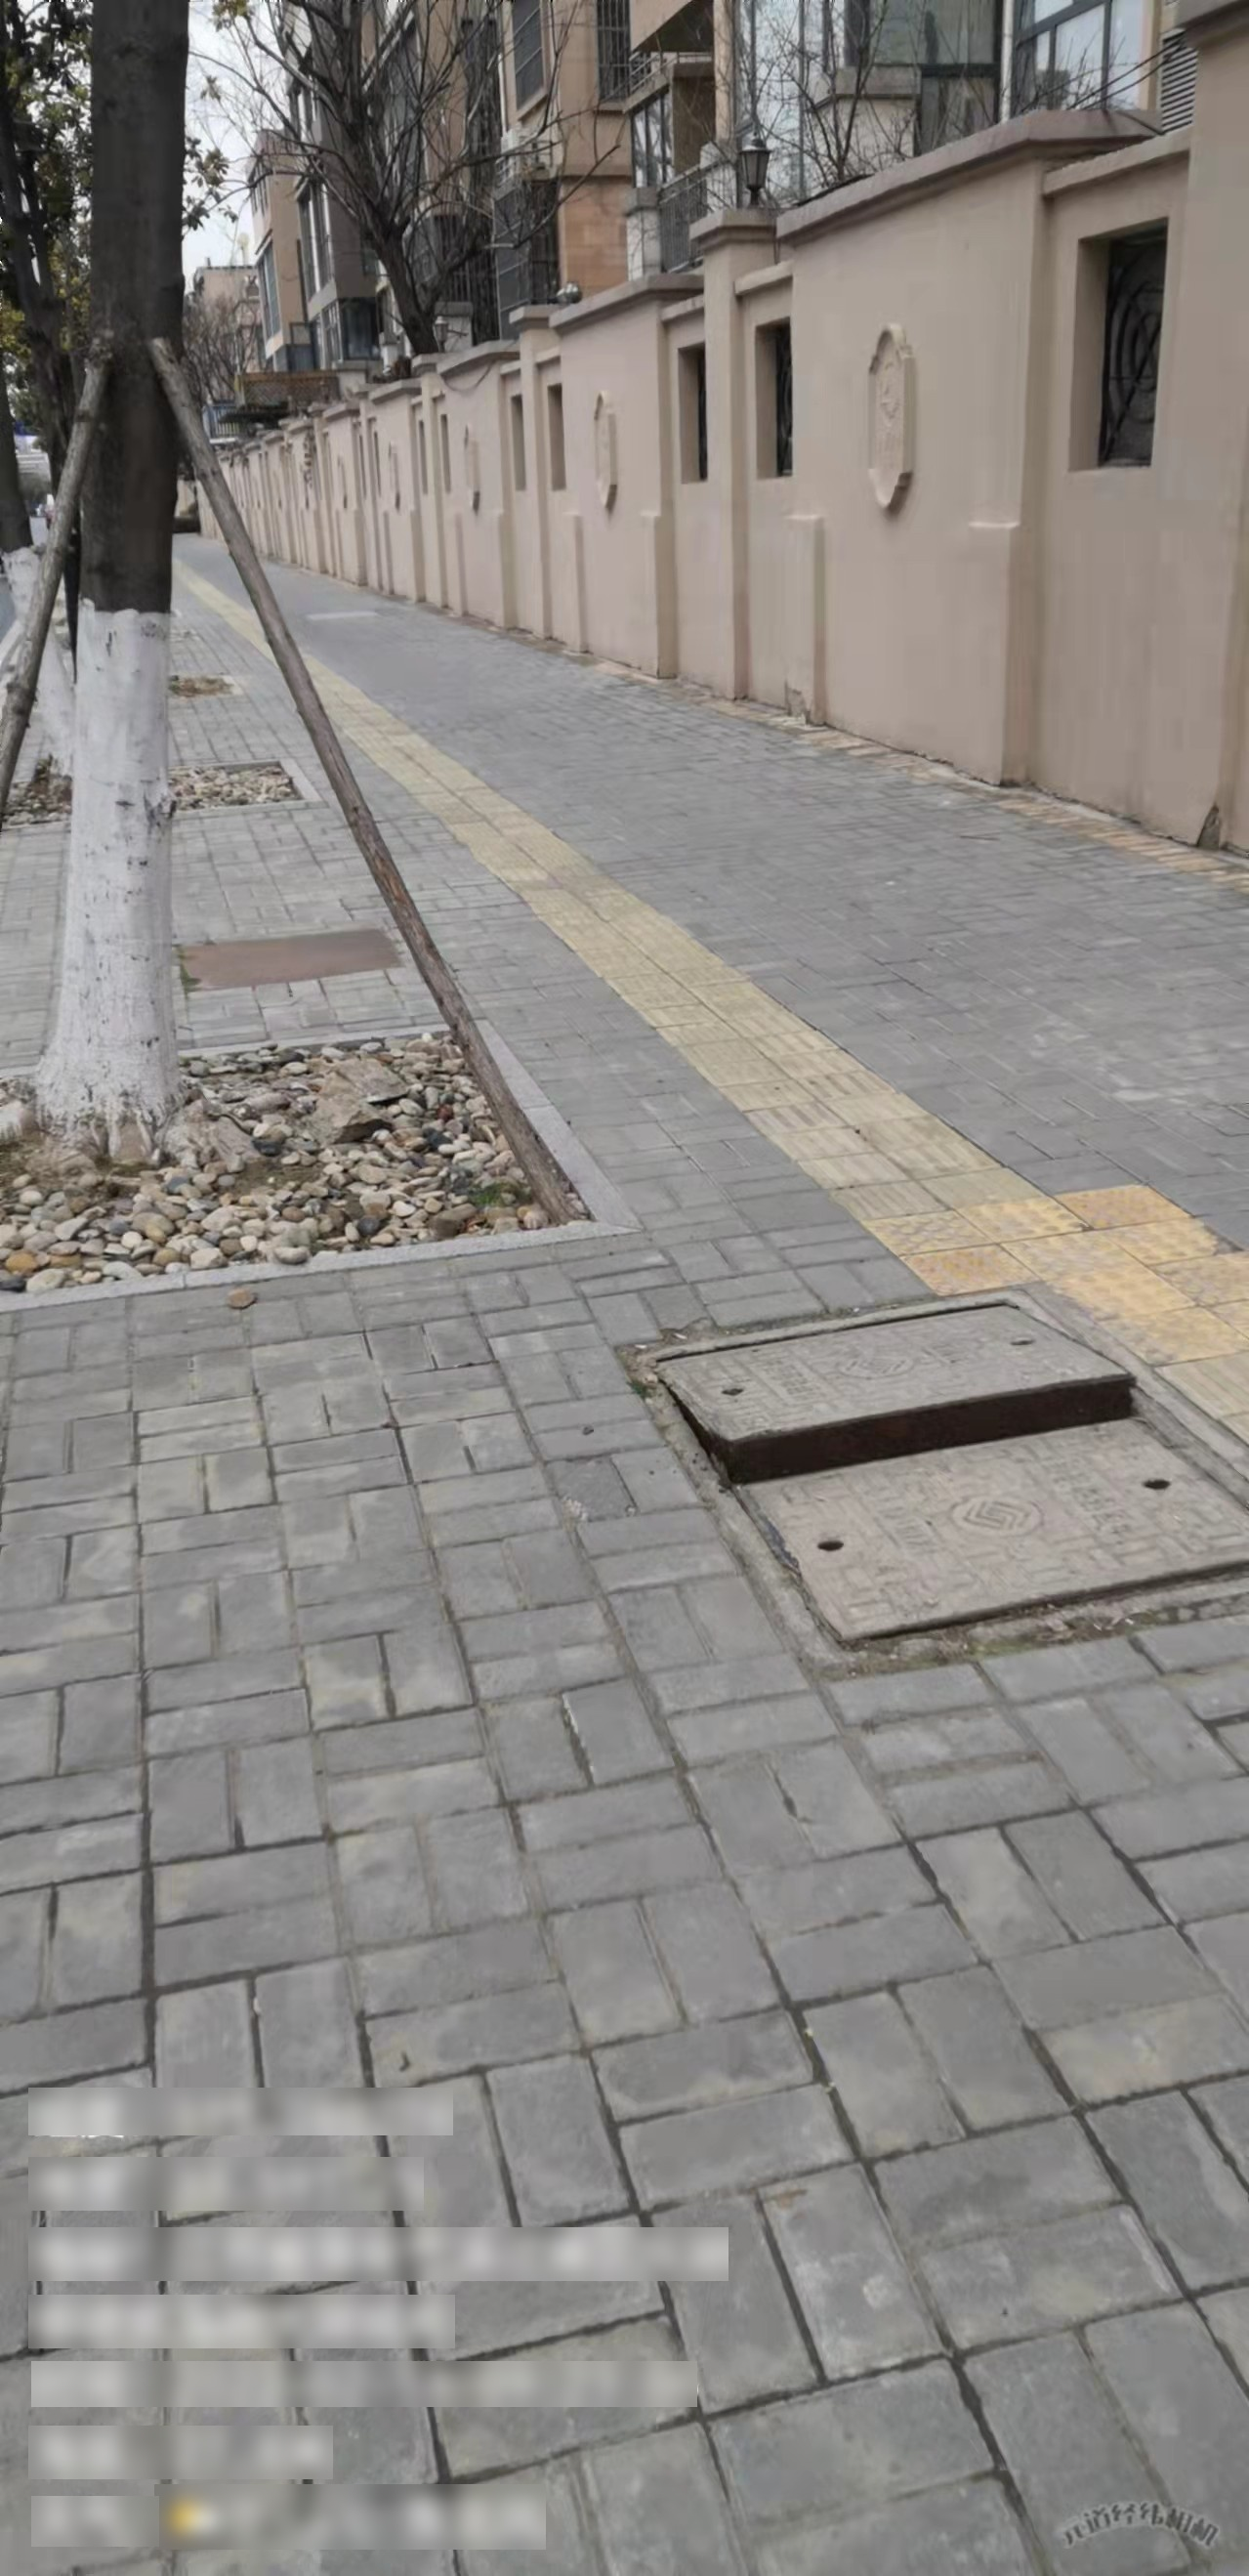uncovered: (614, 1290, 1249, 1684)
